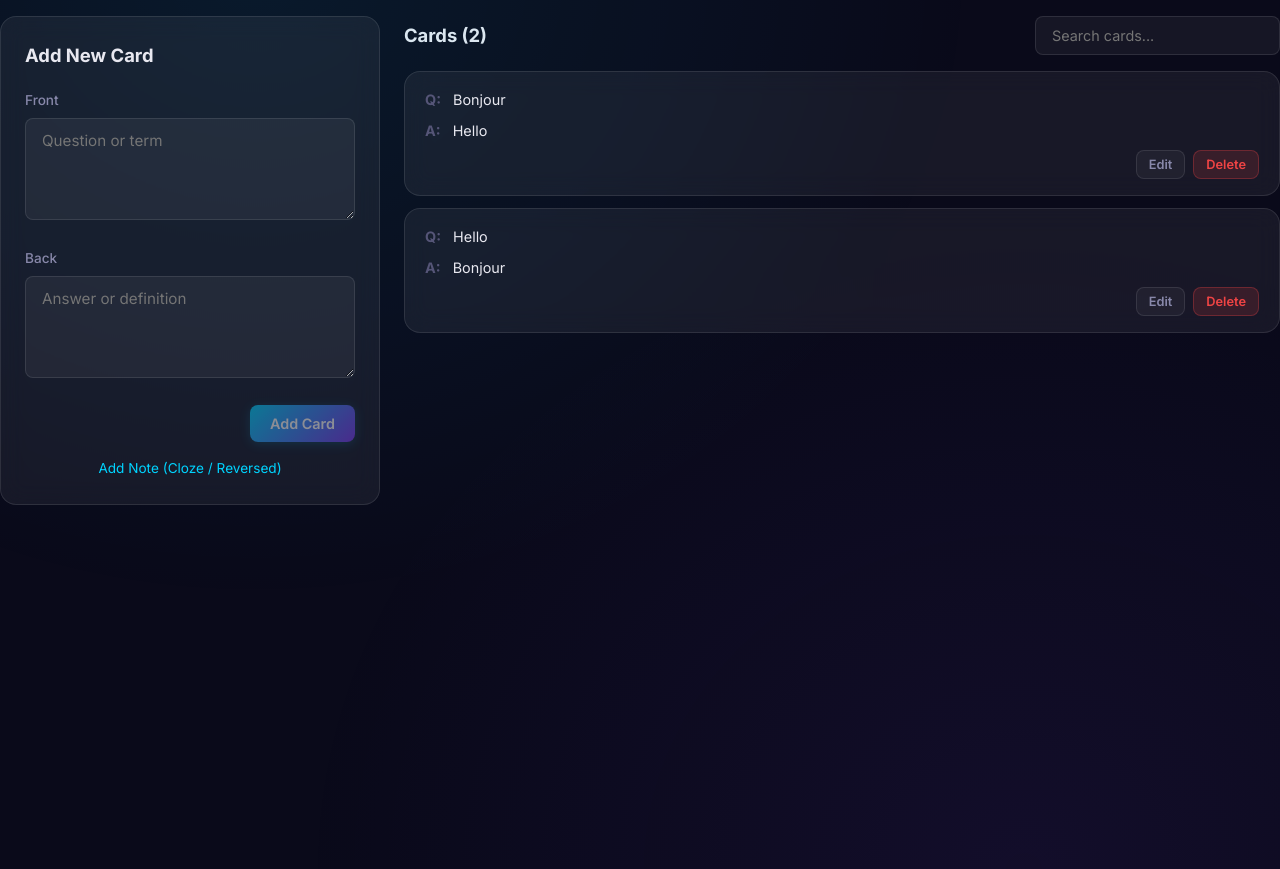
CardEditorPage Note Editing › pending guard prevents duplicate submissions during save
Click the 1st button "Edit": click(1160, 165) [1136,150,1185,179]
(page scrolled)
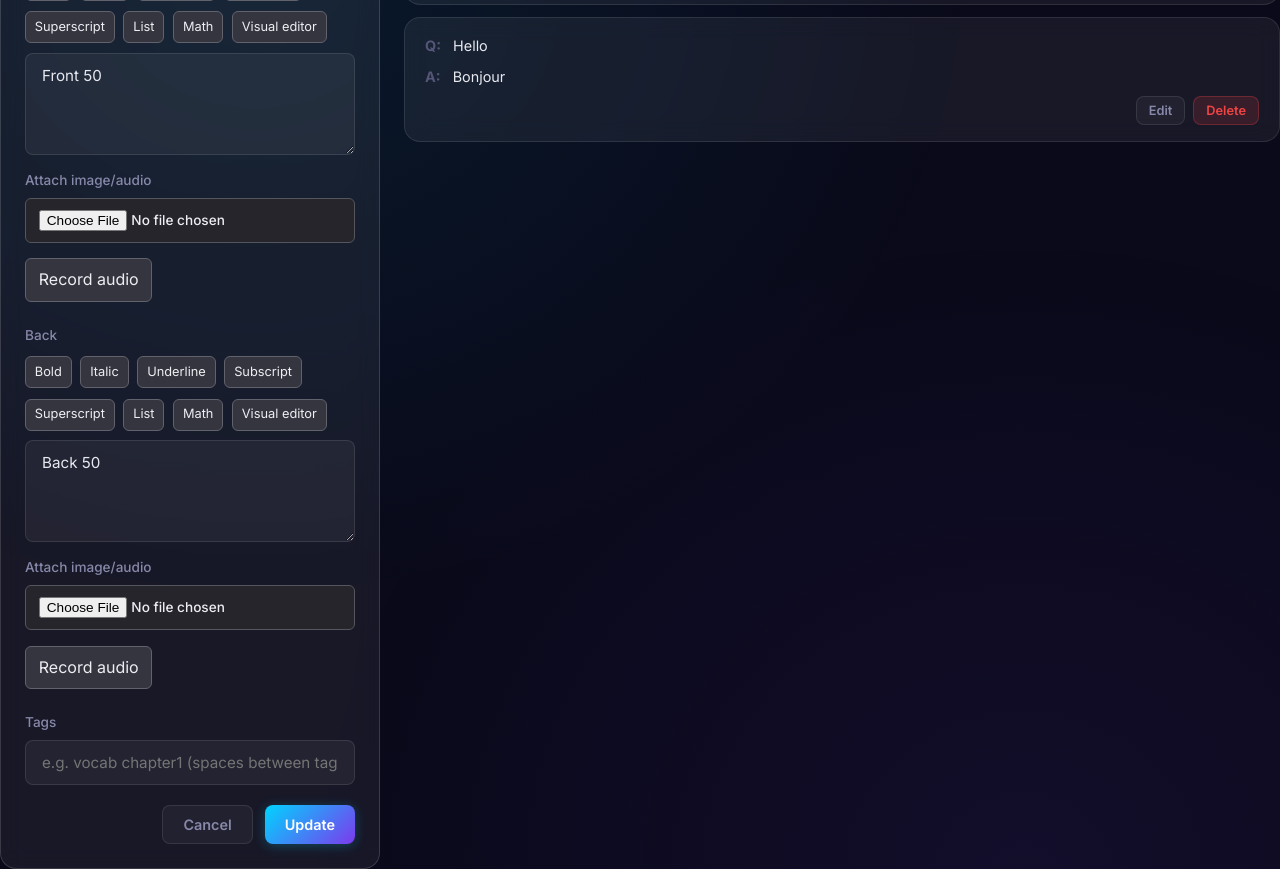
Now the button "Update" is shown
Now the button "Update" is enabled
Click the button "Update": click(310, 825) [265,805,355,844]
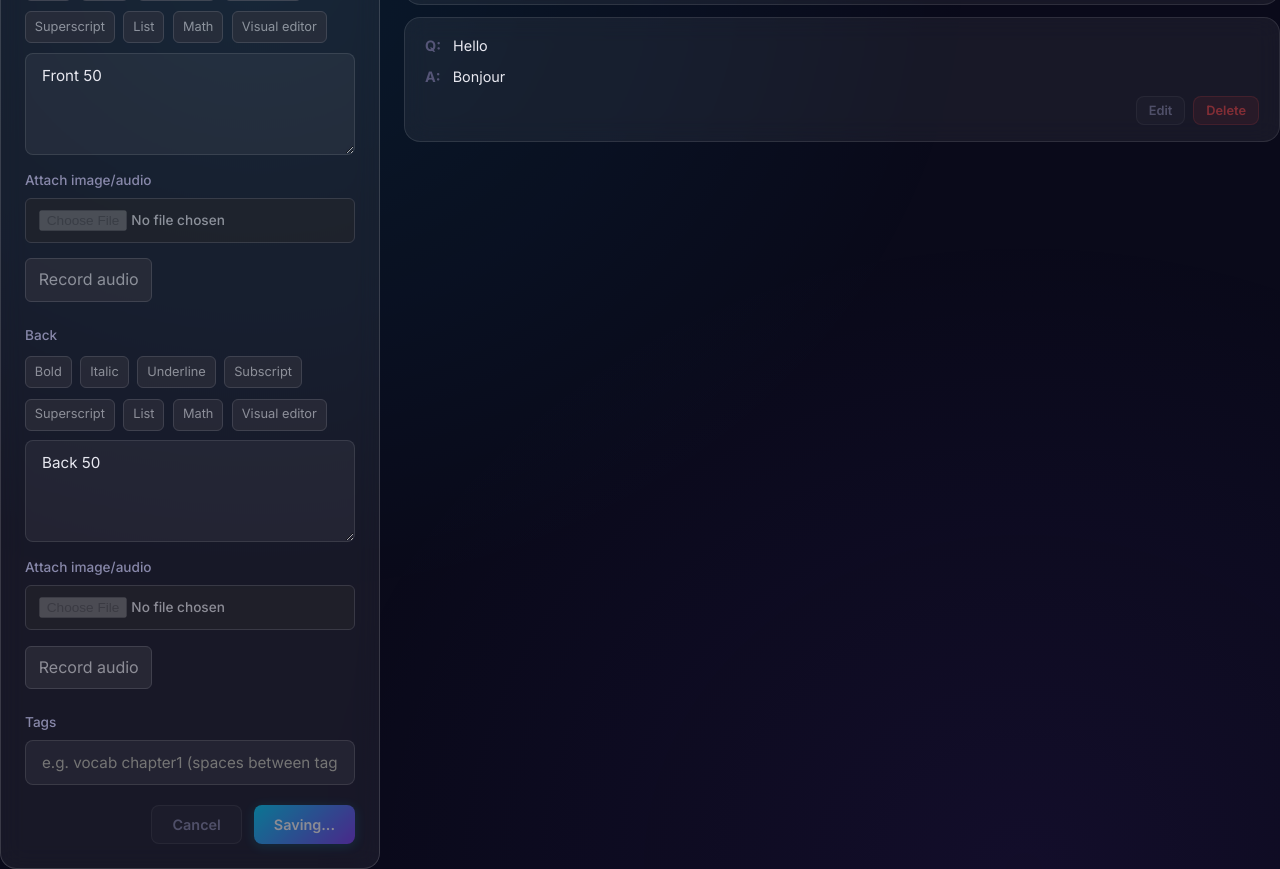
Now the button named "Update" is disabled
# Duplicate clicks should be guarded
Click the button named "Update": click(304, 825) [254,805,355,844]
(page scrolled)
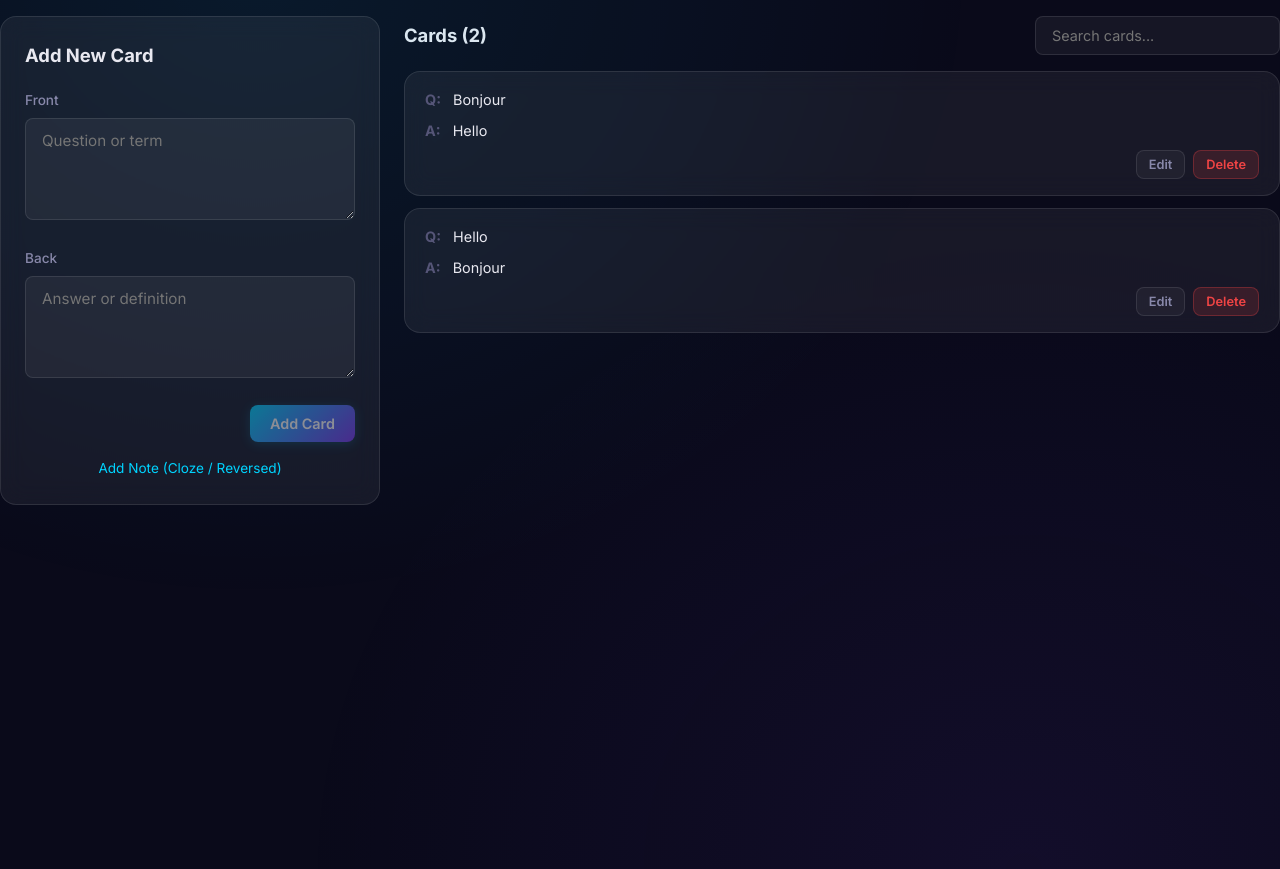
Now the heading "Add New Card" is shown, box [25,44,154,66]
